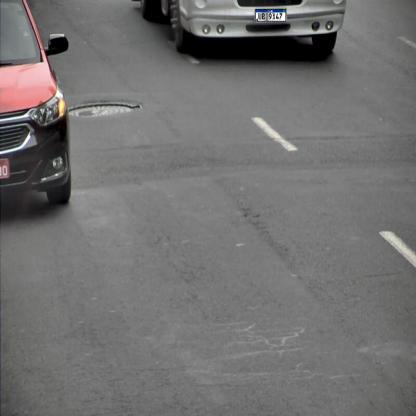PlacaM: (255, 9, 286, 22)
